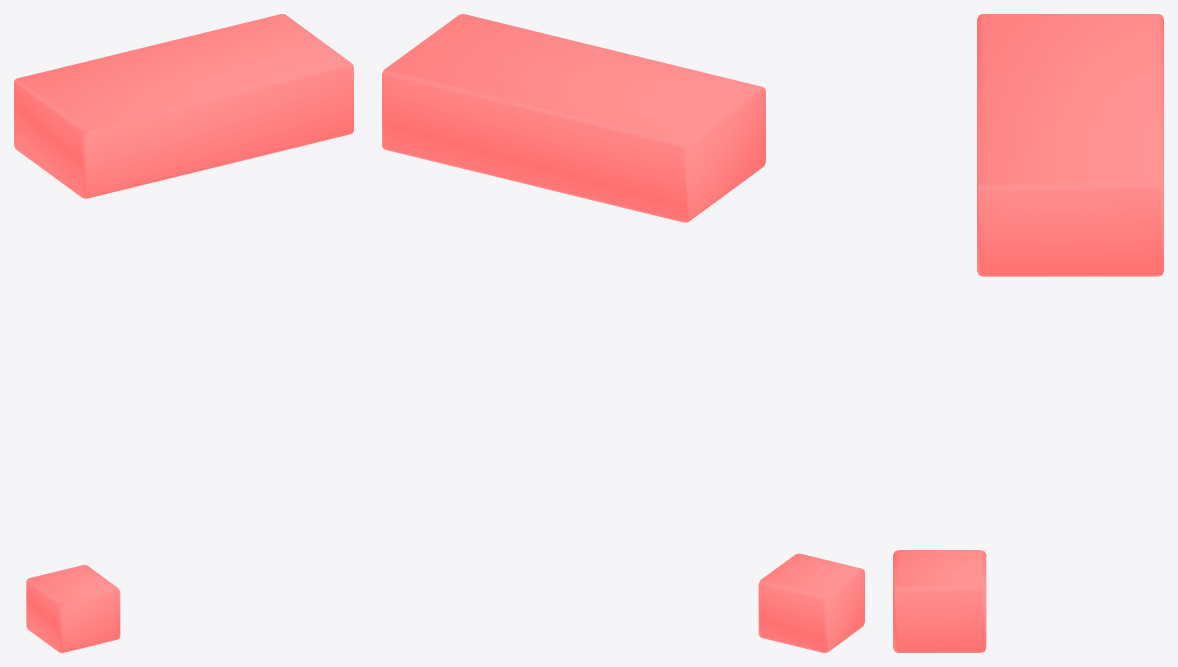
Rendered from Neon_Patrulla_Sirena.fbx.
The picture shows the model from 3 angles, left to right: view 1: azimuth 30°, elevation 25°; view 2: azimuth 150°, elevation 25°; view 3: azimuth 270°, elevation 25°; orthographic projection. The views are drawn at different scales.
Parts seen in each view (by area): view 1: Patrulla_Sirena; view 2: Patrulla_Sirena; view 3: Patrulla_Sirena.
Part boxes in pixels (x1,y1,x2,y2): Patrulla_Sirena: (14, 14, 353, 652); Patrulla_Sirena: (382, 14, 864, 652); Patrulla_Sirena: (893, 14, 1163, 652).
Bounding box in the file's own units: 2.65 × 3.78 × 1.45.
